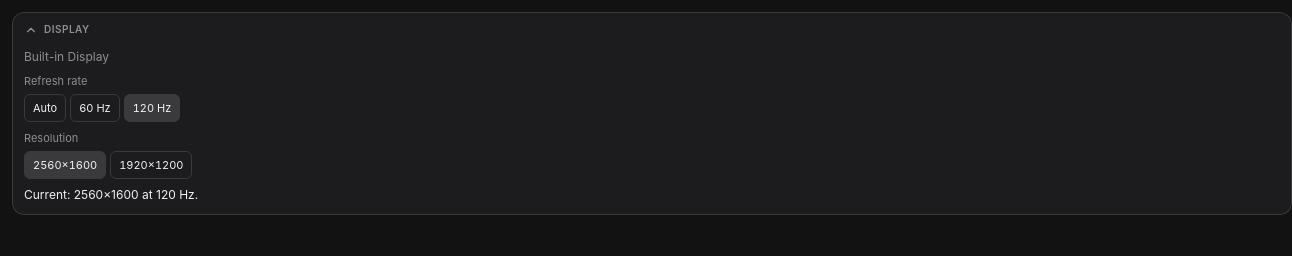
Test: retains actual state and reports a refused write
What coordinates should you click on to do the following:
click the button "1920×1200"
I would click on:
 (151, 165)
Its box is x1=110 y1=150 x2=192 y2=179.
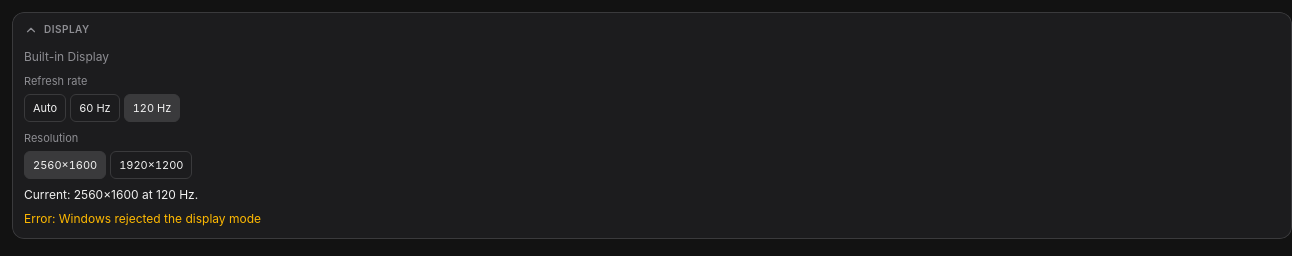
Expected: the message "Error: Windows rejected the display mode" is shown, x1=24 y1=211 x2=261 y2=226
